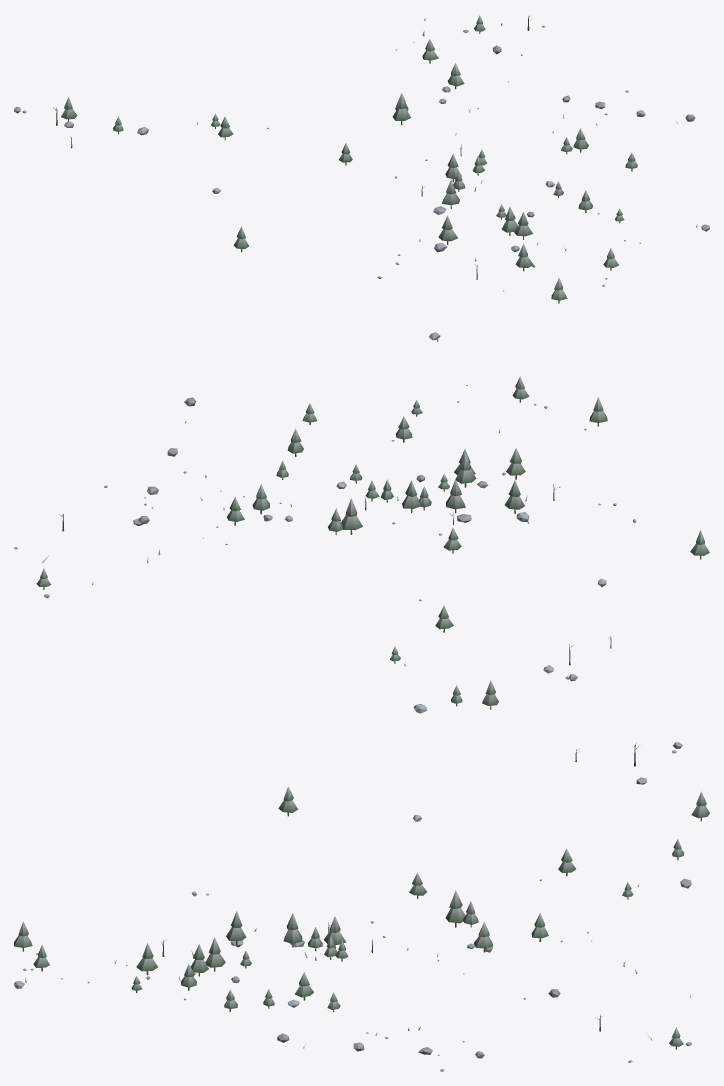
The model's file is frost_land_scatter_c19_09_lod1.glb.
3 renders of one model, top to bottom at view 1: azimuth 30°, elevation 25°; view 2: azimuth 150°, elevation 25°; view 3: azimuth 270°, elevation 25°, orthographic. The views are drawn at different scales.
Visible parts, largest first — view 1: frost_land_scatter_c19_09_lod1; view 2: frost_land_scatter_c19_09_lod1; view 3: frost_land_scatter_c19_09_lod1.
Part boxes in pixels (left/top/right/bottom): frost_land_scatter_c19_09_lod1: left=14, top=15, right=709, bottom=303; frost_land_scatter_c19_09_lod1: left=14, top=332, right=709, bottom=713; frost_land_scatter_c19_09_lod1: left=14, top=742, right=709, bottom=1071.
Size of the model in its own units: 254 by 45.86 by 257.
